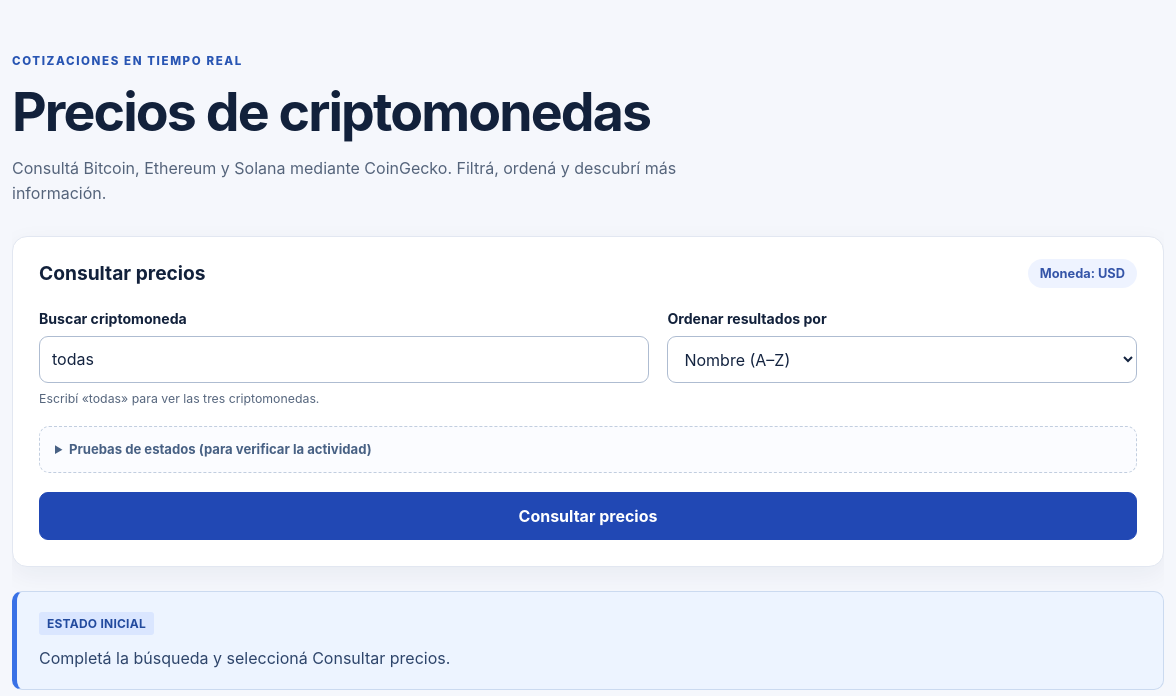
Scenario: Consulta y estados de pantalla › muestra error y permite reintentar hasta obtener resultados
Click the button "Consultar precios": (588, 516) top-left (39, 492), bottom-right (1137, 540)
(page scrolled)
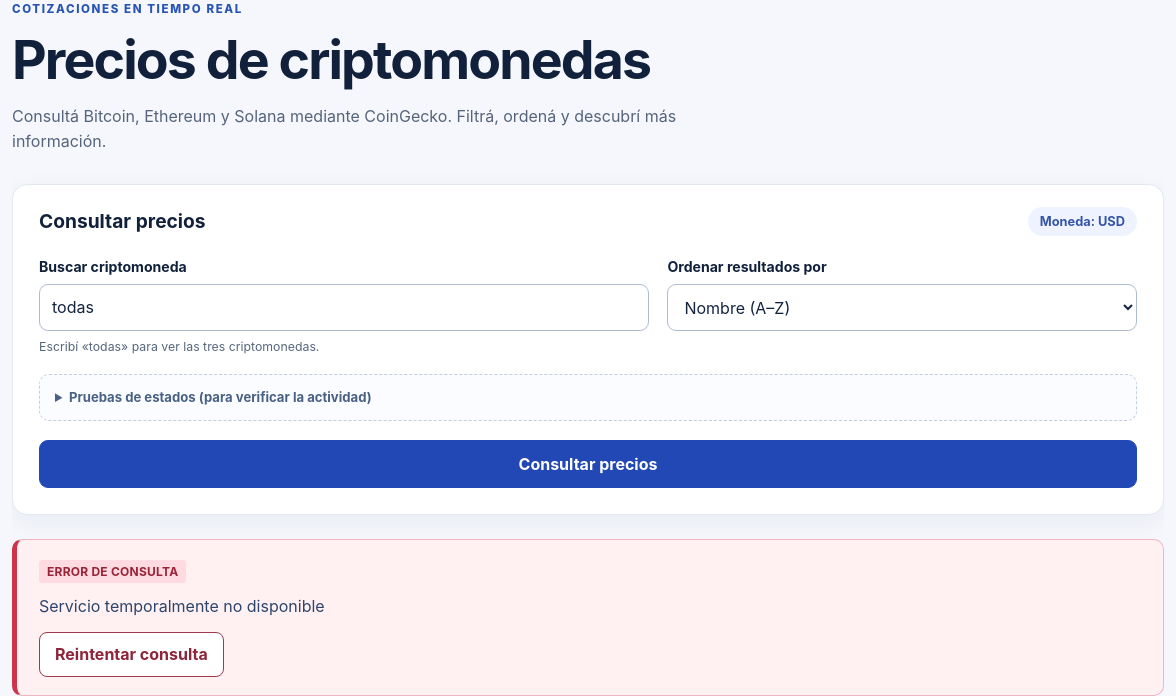
Expected: the text "ERROR DE CONSULTA" is shown, top-left (39, 560), bottom-right (186, 583)
Click the button "Reintentar consulta": (131, 654) top-left (39, 632), bottom-right (224, 677)
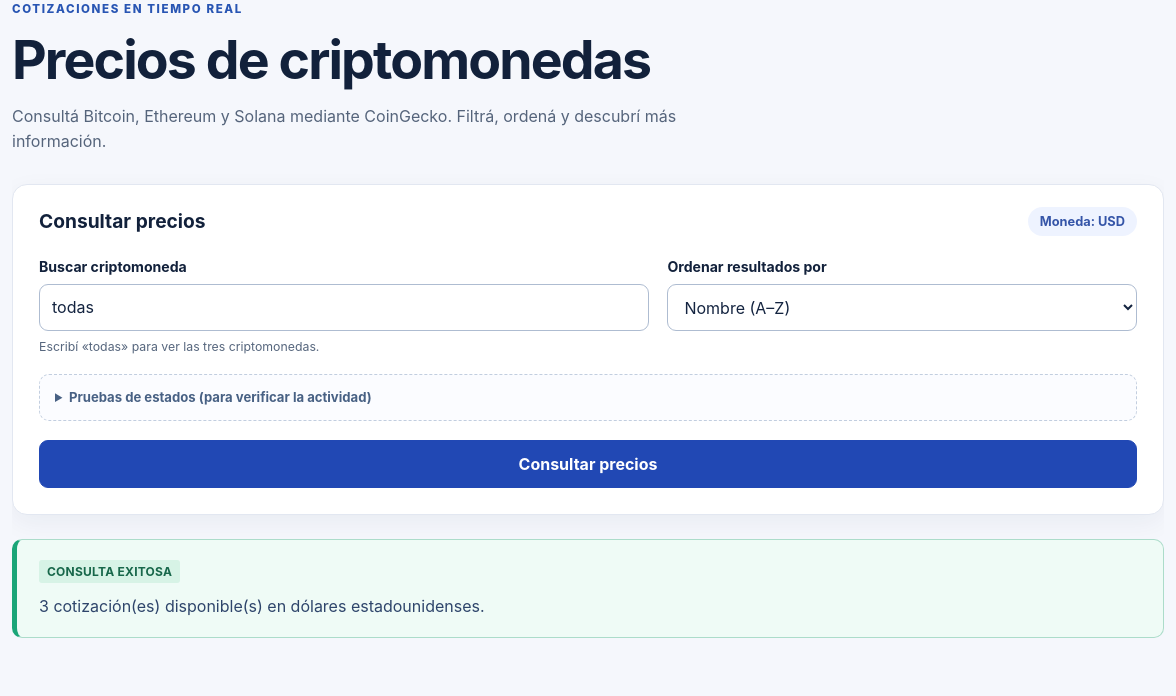
Expected: the text "CONSULTA EXITOSA" is shown, top-left (39, 560), bottom-right (180, 583)
